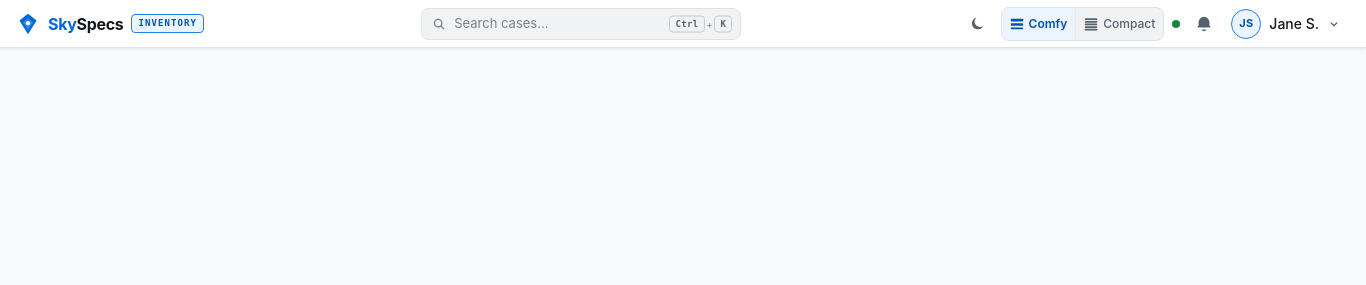
Test case: InventoryNavbar — dropdown open/close › closes the dropdown on click outside
Click the button with aria-label "user menu" at (1288,24), box [1226,6,1350,42]
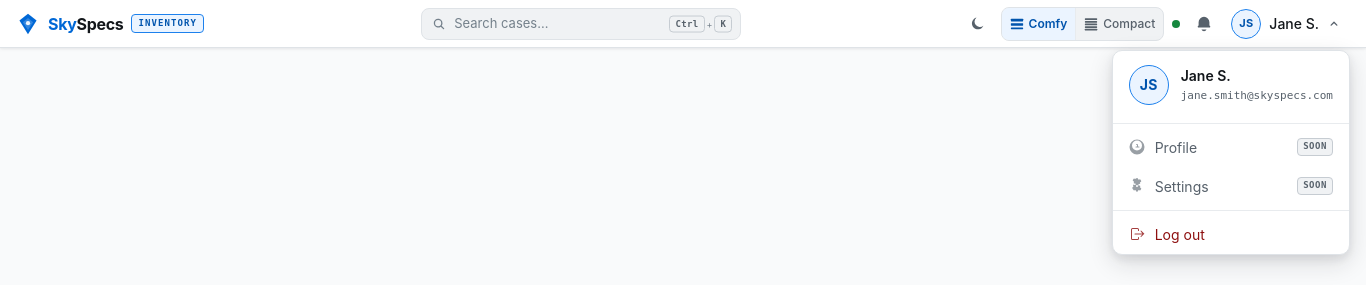
Expected: the menu is shown, [1112,50,1350,254]
Press the mouse on the element that starts with "Sky" at (683,24), box [0,0,1365,48]
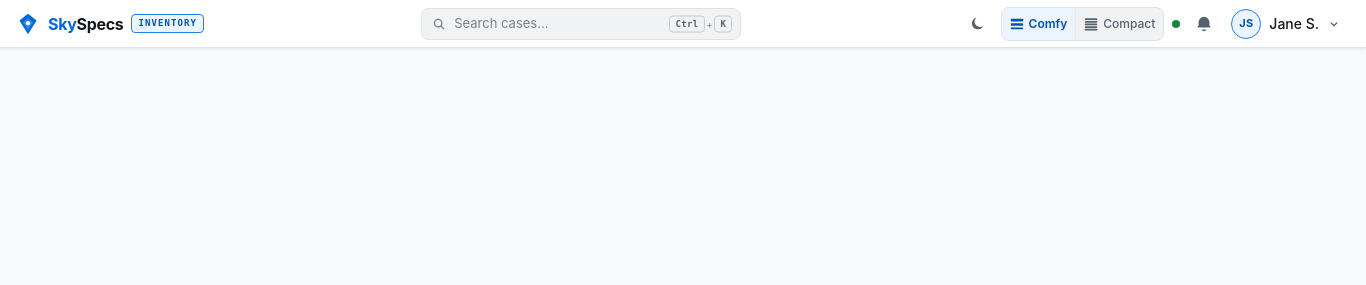
Expected: the menu is gone
